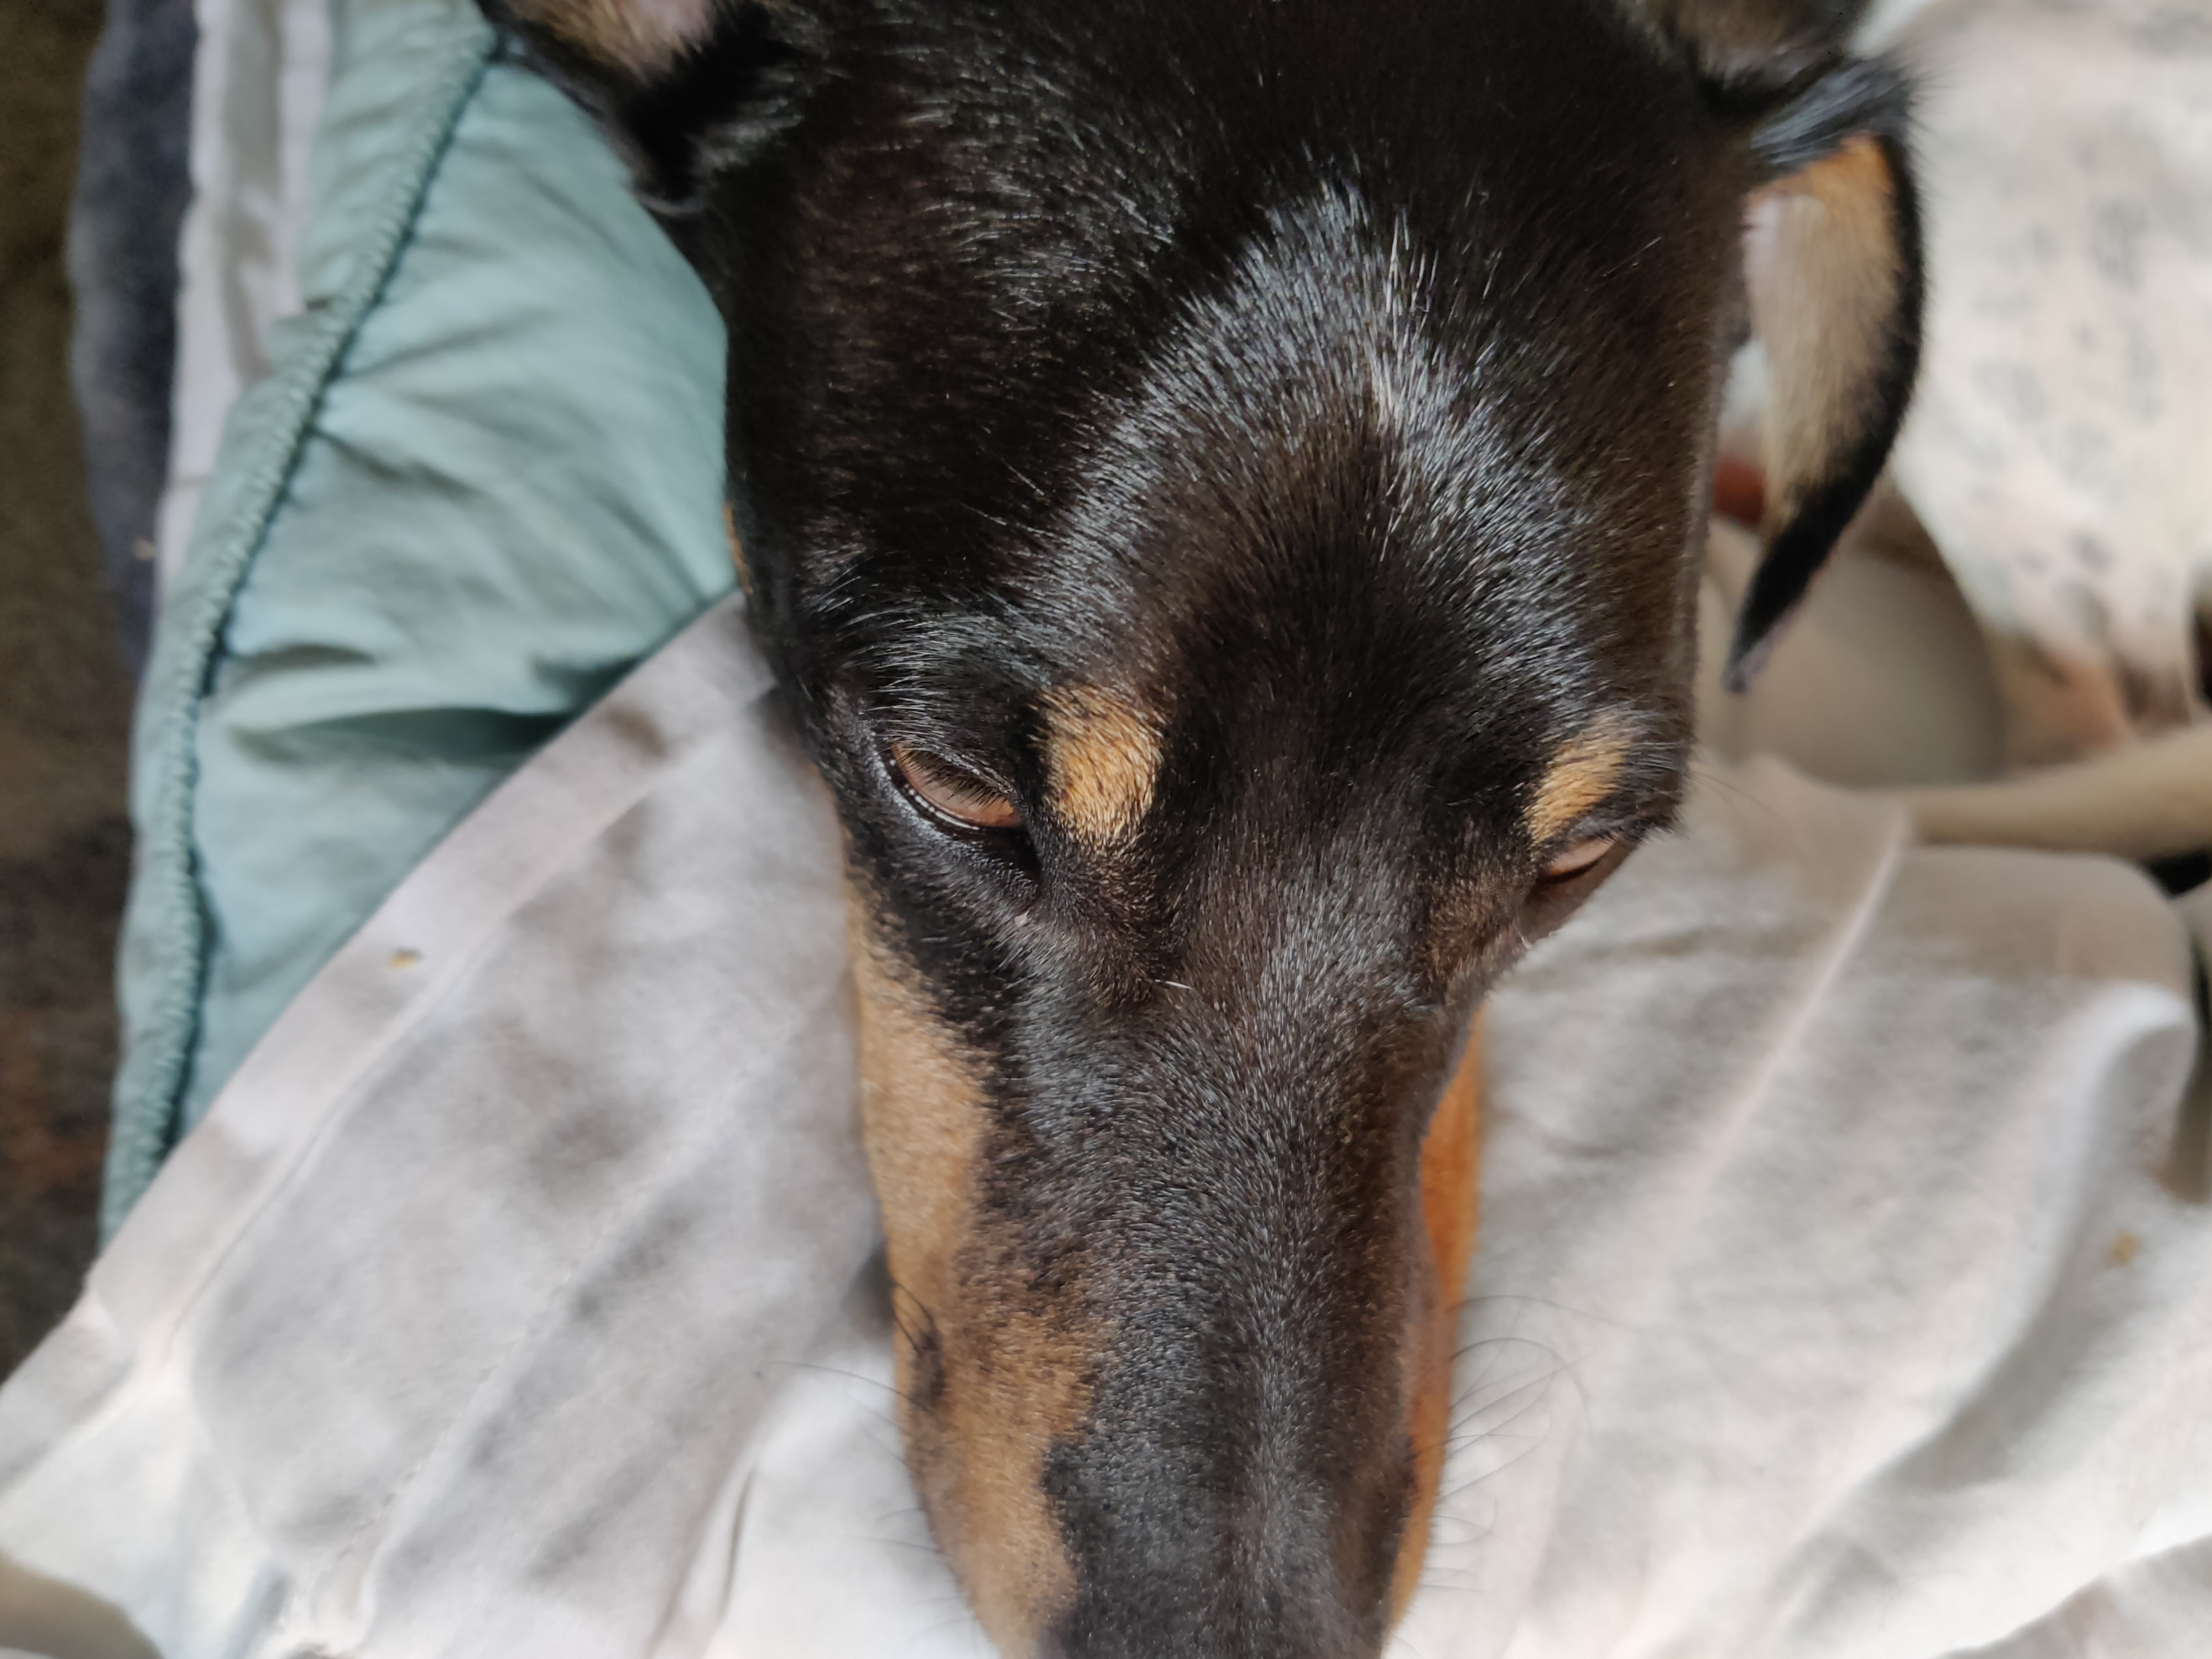Dog: (420, 0, 1968, 1659)
